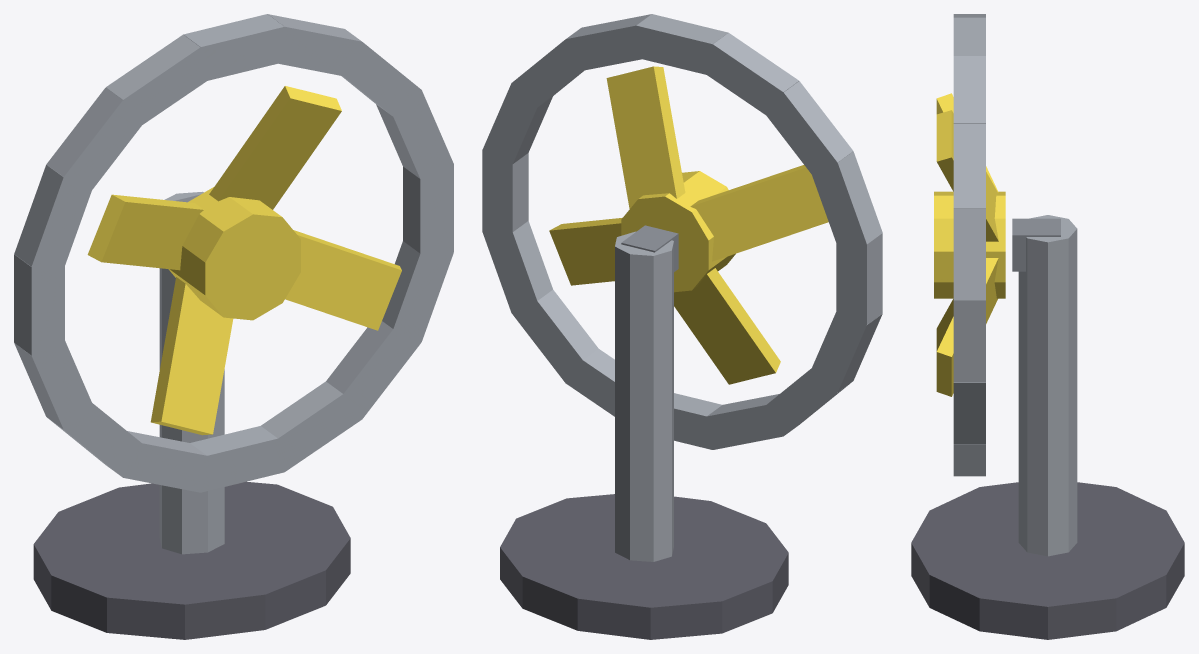
Rendered from fan.glb.
3 views of the same model, side by side, from view 1: azimuth 30°, elevation 25°; view 2: azimuth 150°, elevation 25°; view 3: azimuth 270°, elevation 25° (orthographic). The views are drawn at different scales.
Parts seen in each view (by area): view 1: fan; view 2: fan; view 3: fan.
Part boxes in pixels (bbox=[...]): fan: bbox=[14, 14, 453, 639]; fan: bbox=[482, 14, 882, 639]; fan: bbox=[911, 14, 1184, 639].
Bounding box in the file's own units: 1.25 × 1.63 × 0.75.
